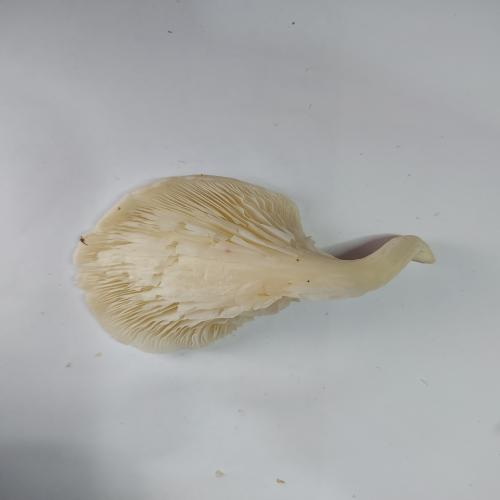Oyster Mushroom: (72, 173, 436, 354)
